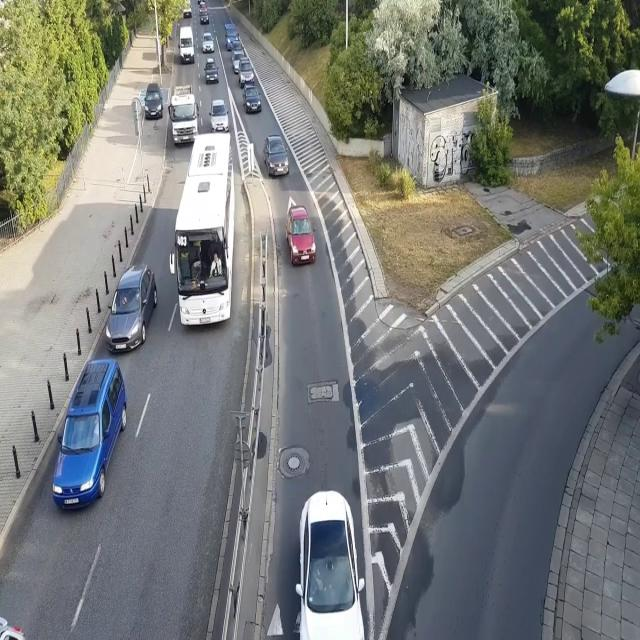bus: (169, 132, 235, 326)
car: (292, 490, 367, 640), (105, 262, 157, 353), (286, 205, 317, 268), (264, 132, 290, 180), (143, 81, 163, 118), (209, 97, 229, 132), (242, 84, 263, 115), (238, 58, 254, 87), (203, 57, 219, 84), (232, 40, 244, 73), (201, 32, 215, 54), (200, 12, 209, 25), (200, 1, 208, 15)
truck: (168, 85, 199, 145)
van: (50, 358, 128, 515), (179, 26, 195, 64), (224, 23, 240, 49), (182, 0, 192, 19)
